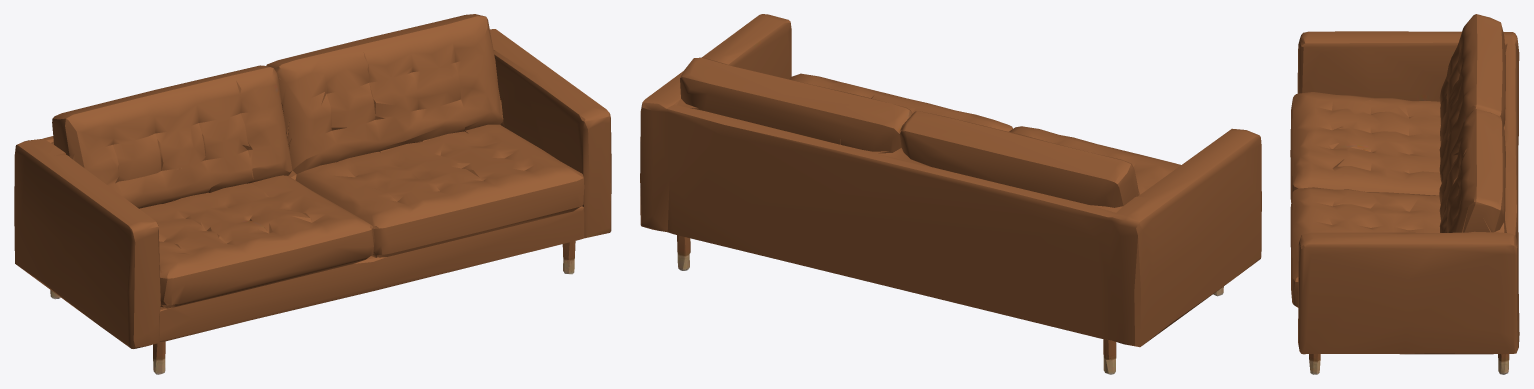
Rendered from sofa_dark_69270301.glb.
3 views of the same model, side by side, from view 1: azimuth 30°, elevation 25°; view 2: azimuth 150°, elevation 25°; view 3: azimuth 270°, elevation 25° (orthographic). The views are drawn at different scales.
Parts seen in each view (by area): view 1: ProcessedMeshNode; view 2: ProcessedMeshNode; view 3: ProcessedMeshNode.
Boxes of the visible parts, x1,y1,x2,y2 form: ProcessedMeshNode: (14,14,611,374); ProcessedMeshNode: (640,14,1261,374); ProcessedMeshNode: (1290,14,1519,374).
Bounding box in the file's own units: 2.06 × 0.7834 × 0.9221.
Materials: 1 (1 with a texture image).
